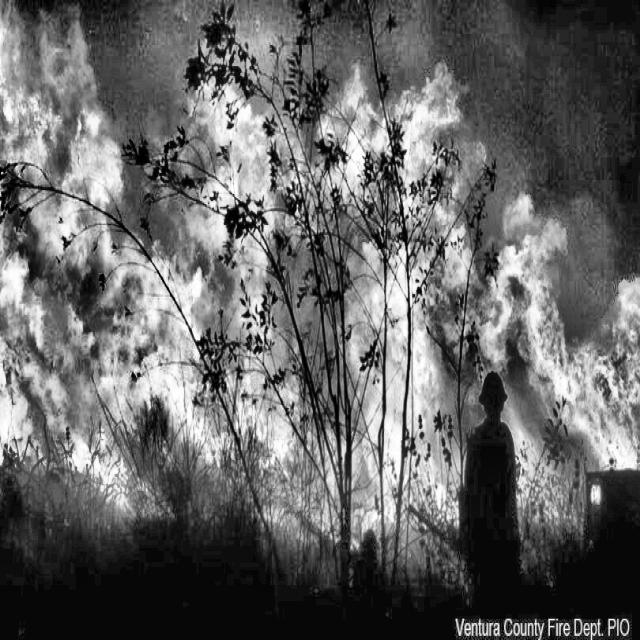fire: (4, 13, 640, 584)
